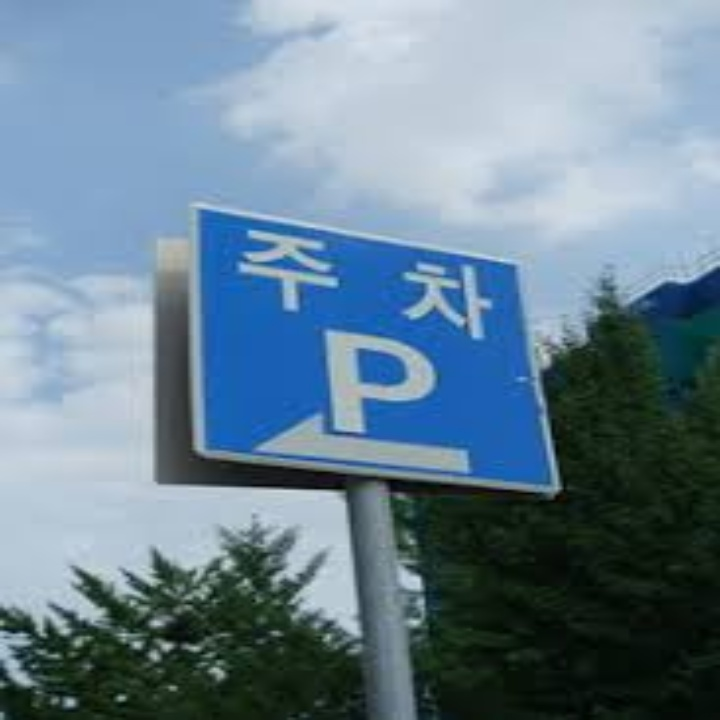parking: (319, 319, 441, 440)
